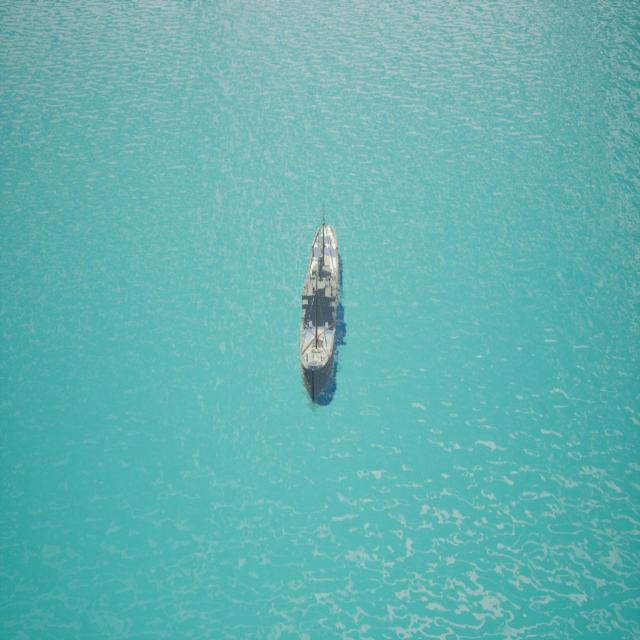fishing ship: (298, 221, 347, 410)
